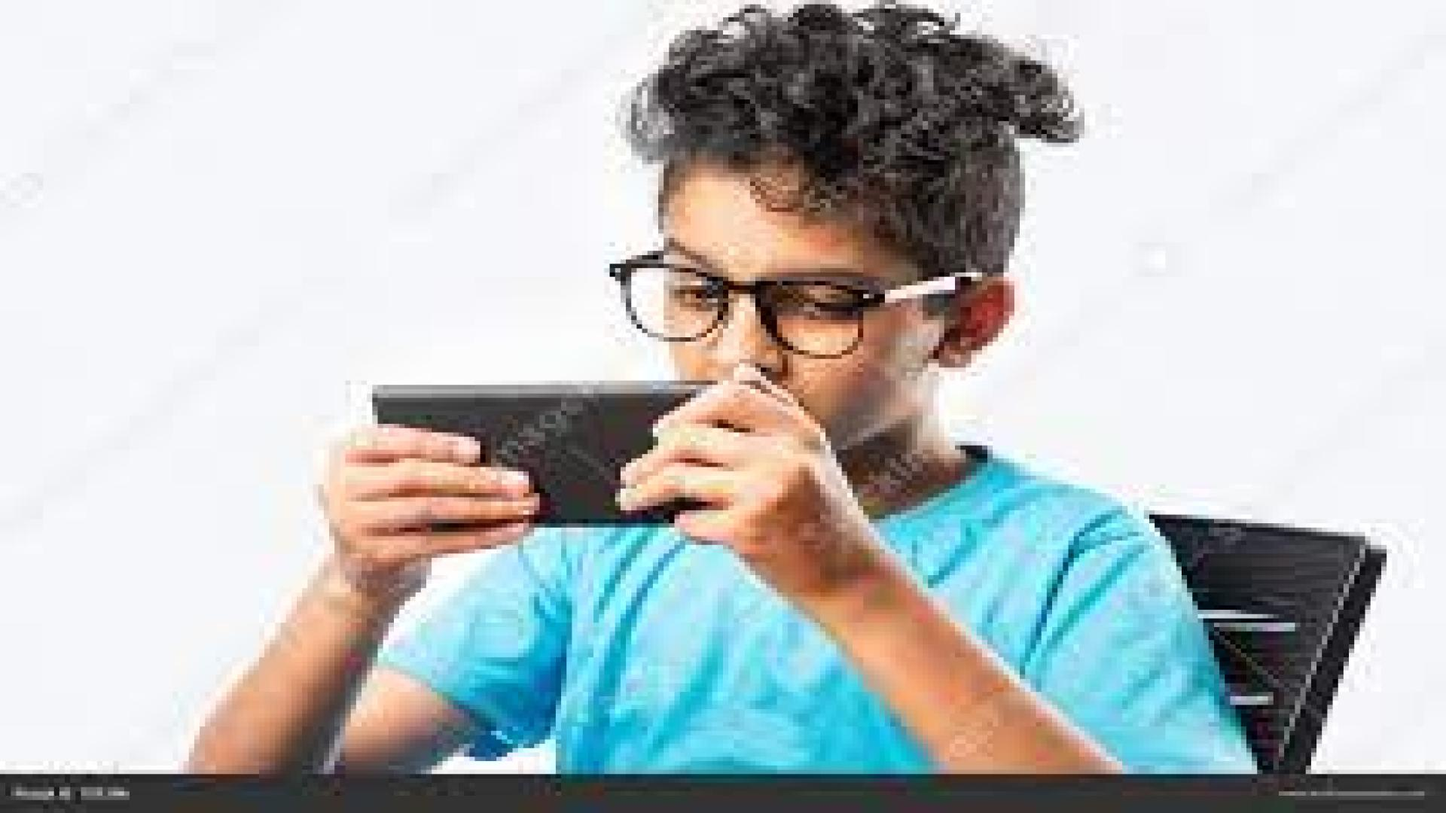phone: (368, 378, 729, 533)
